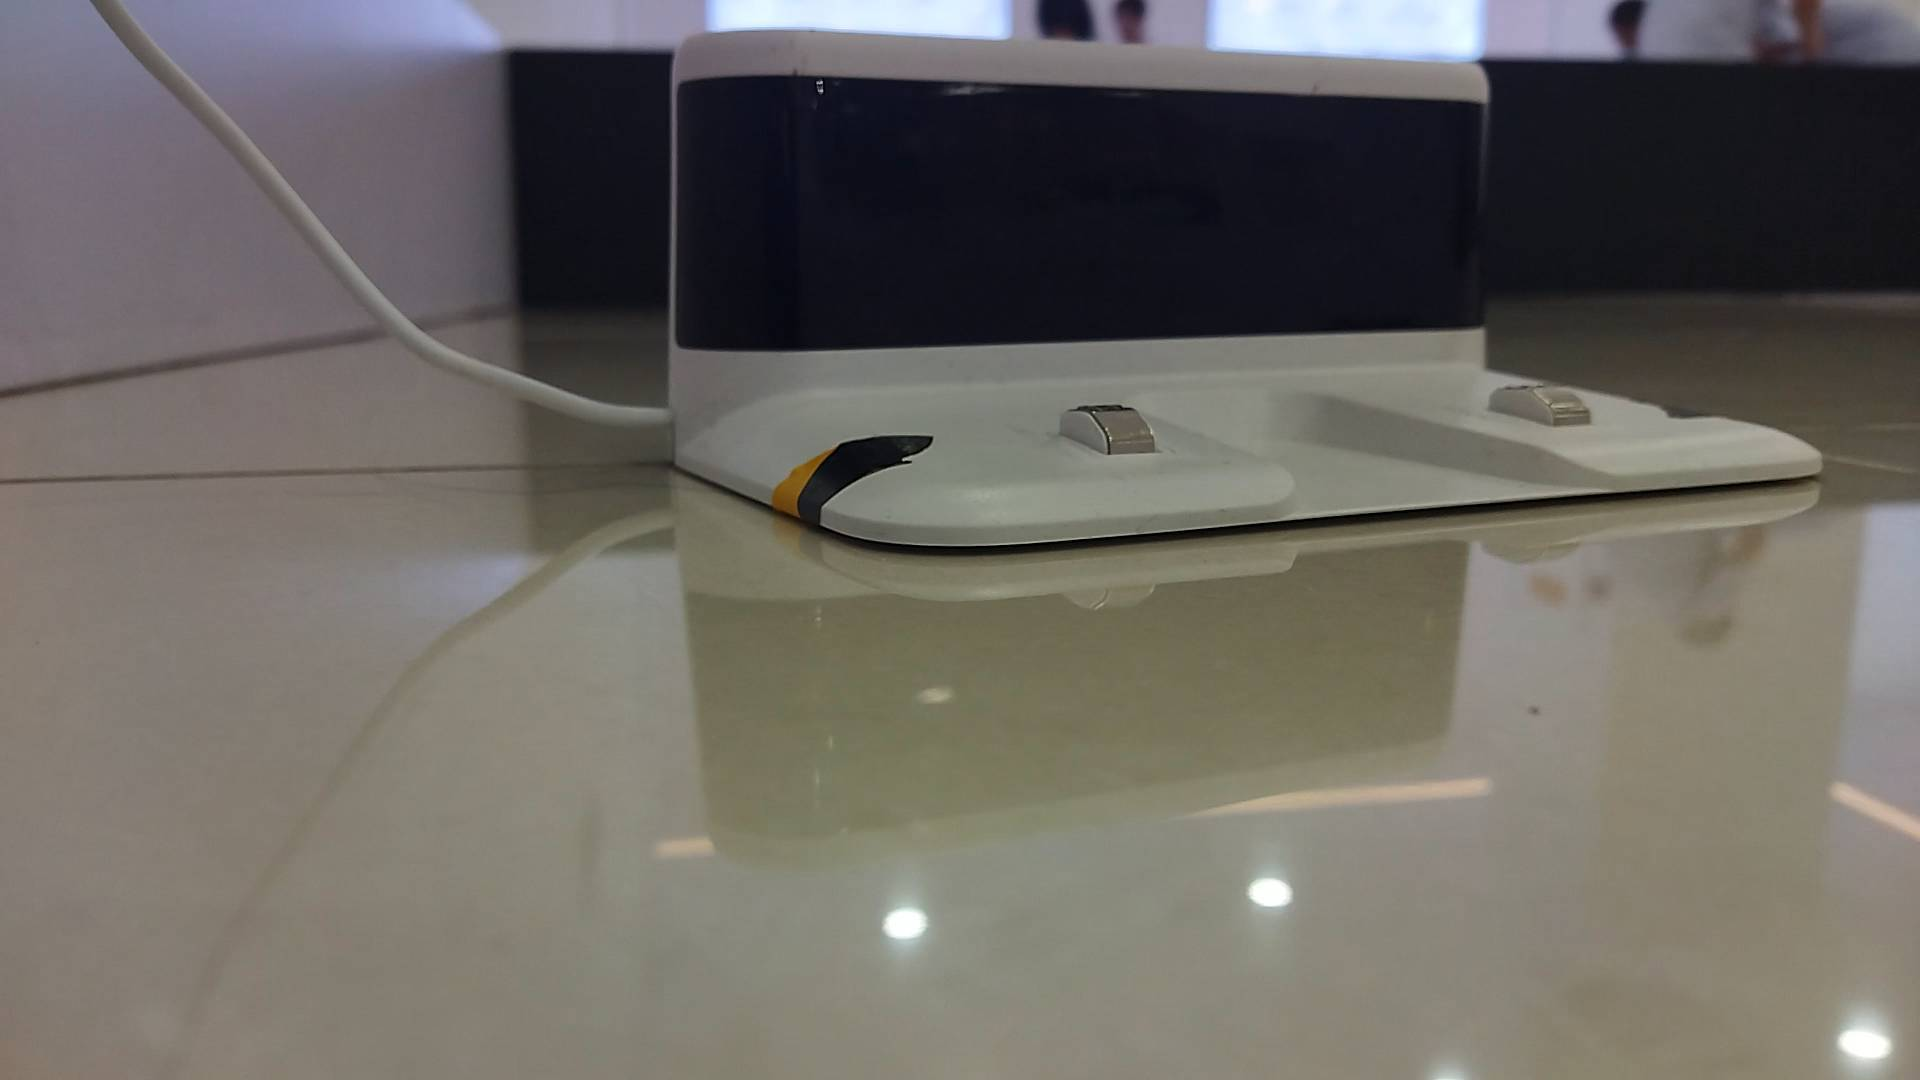recharge seat: (666, 26, 1826, 554)
